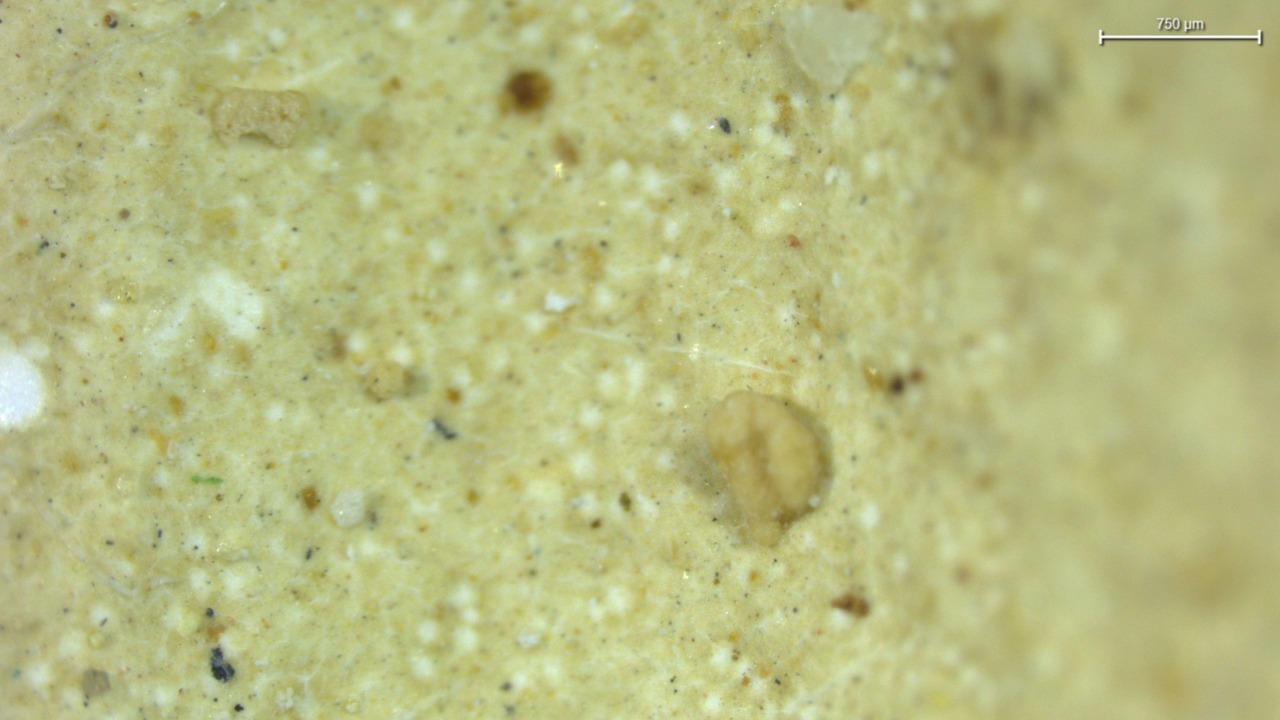microplastic_fragment: (702, 393, 837, 549)
